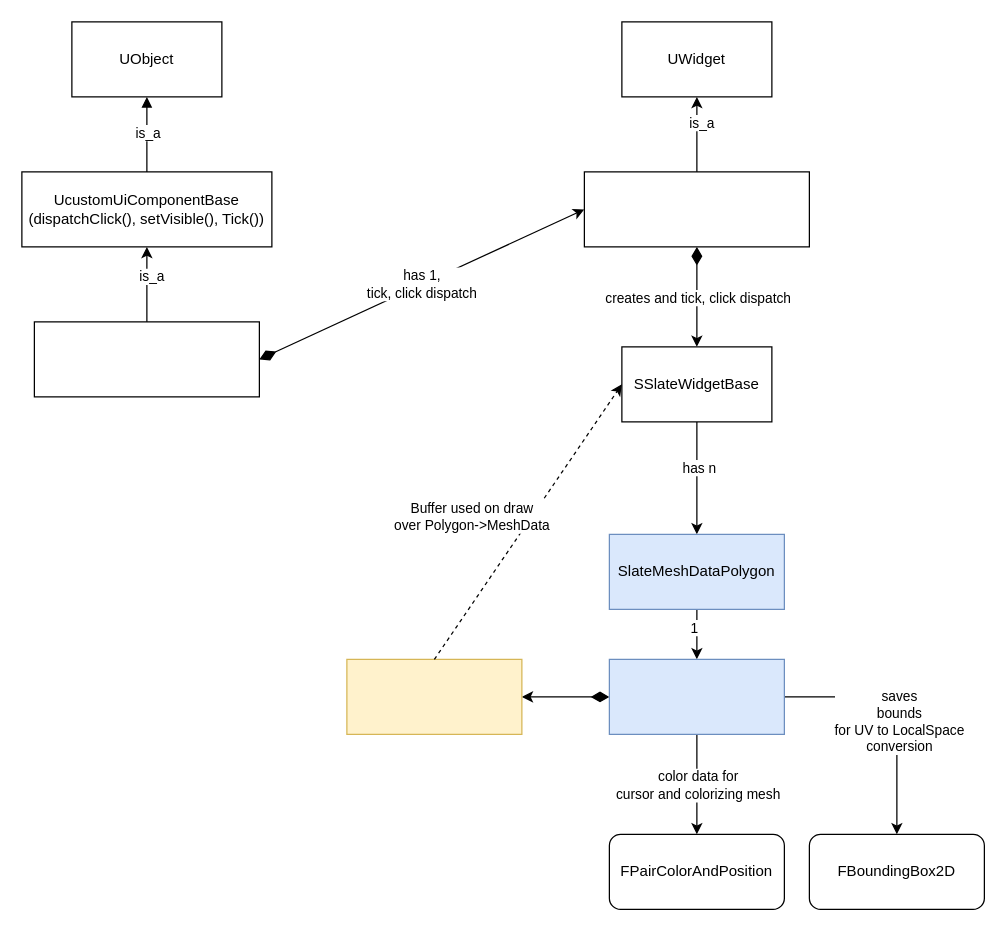
Image size: 1006x931. Some labels were removed from this diagram. Each missing label, with the centre of its shape:
"SlateMeshData" goes at [696,696].
"SlateVertexBufferCache" goes at [434,696].
"UCustomUiSlateWidgetBase" goes at [146,359].
"UWidgetSlateWrapperBase" goes at [696,209].
